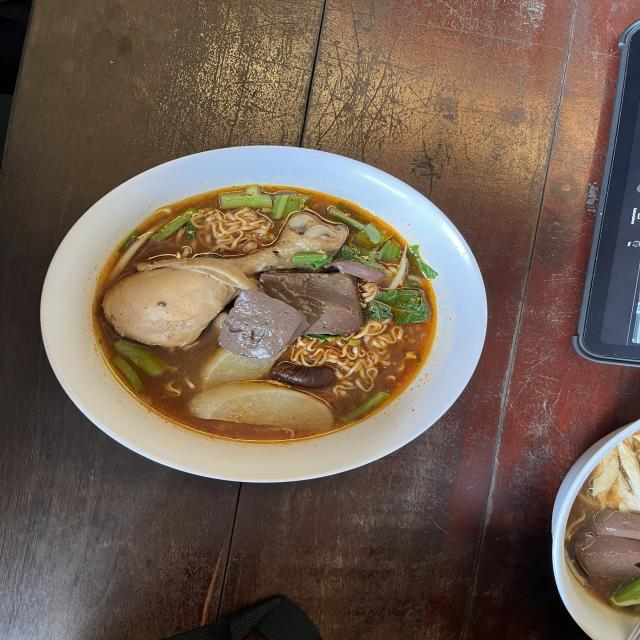boiled_chicken_blood_jelly: (258, 272, 364, 332), (214, 291, 303, 356)
chicken_drumstick: (99, 212, 347, 348)
daikon_radish: (190, 384, 337, 428), (208, 352, 264, 381)
noodle: (89, 179, 451, 449)
